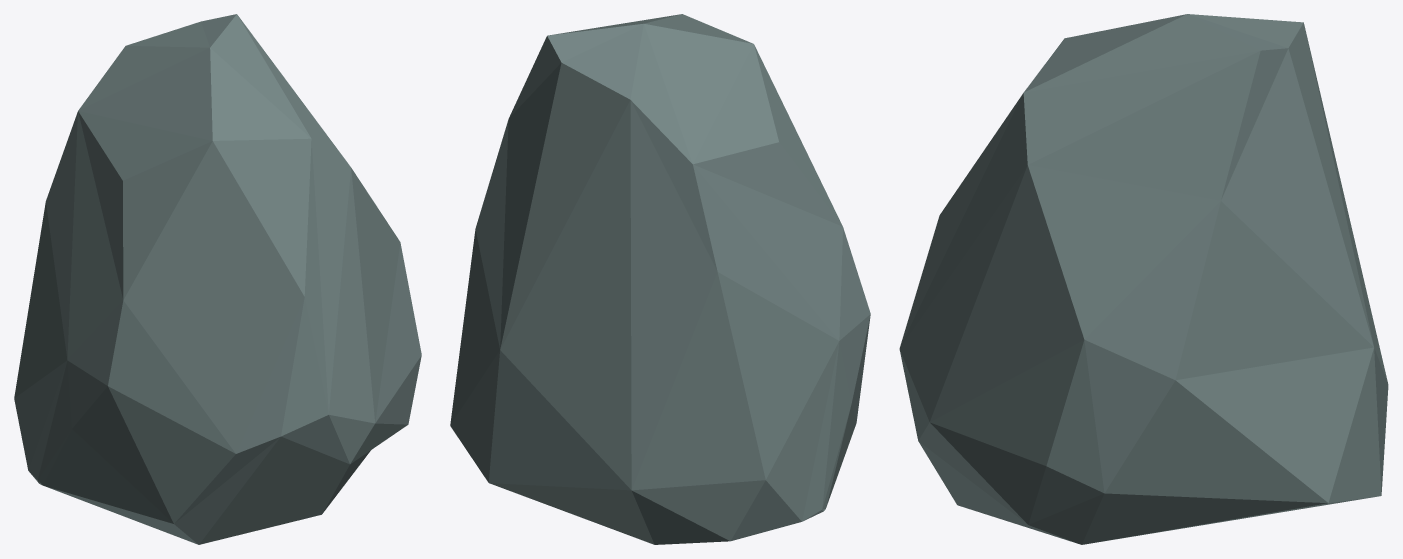
The model's file is Stone3.fbx.
The picture shows the model from 3 angles, left to right: view 1: azimuth 30°, elevation 25°; view 2: azimuth 150°, elevation 25°; view 3: azimuth 270°, elevation 25°; orthographic projection. The views are drawn at different scales.
Visible parts, largest first — view 1: SM_Env_Rock_Spike_05; view 2: SM_Env_Rock_Spike_05; view 3: SM_Env_Rock_Spike_05.
Part boxes in pixels (x1,y1,x2,y2): SM_Env_Rock_Spike_05: [14, 14, 421, 544]; SM_Env_Rock_Spike_05: [450, 14, 870, 544]; SM_Env_Rock_Spike_05: [899, 14, 1388, 544].
Size of the model in its own units: 78.86 by 94.48 by 83.68.
